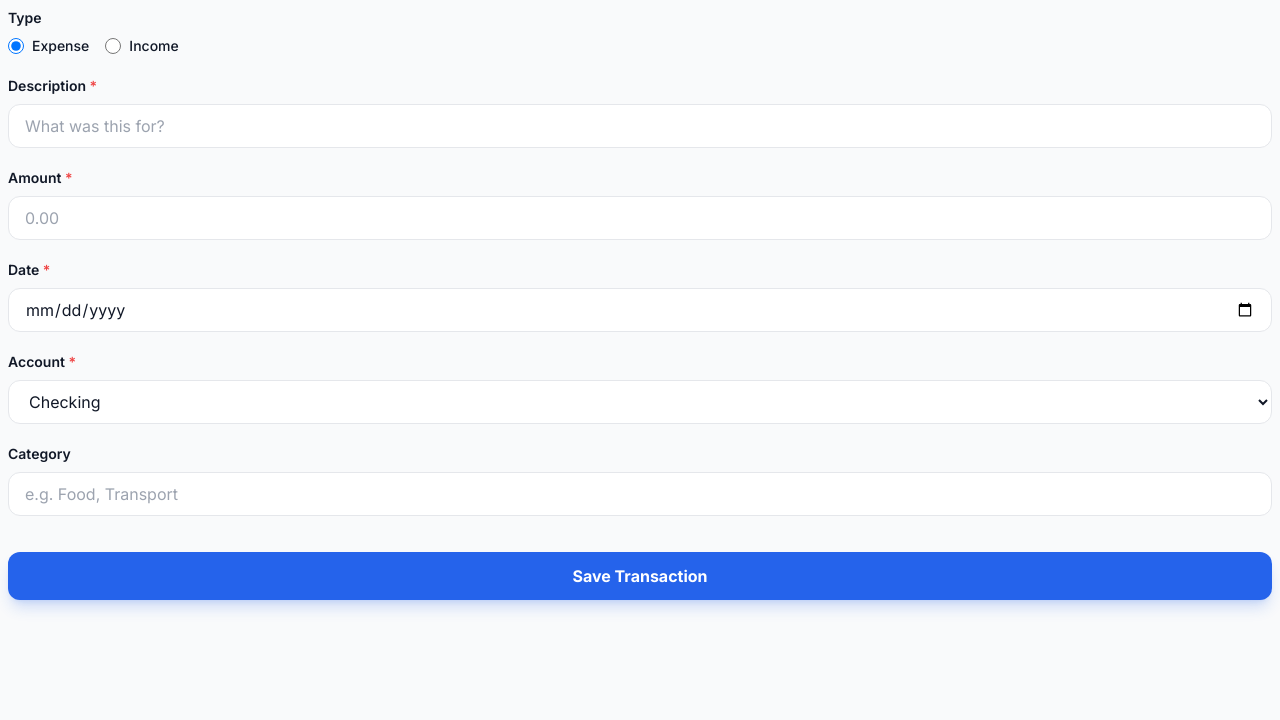
Test: TransactionForm › validates required fields
Using a more flexible button matcher since my component has "Save Transaction"
Click the button "Save Transaction": (640, 576) x1=8 y1=552 x2=1272 y2=600
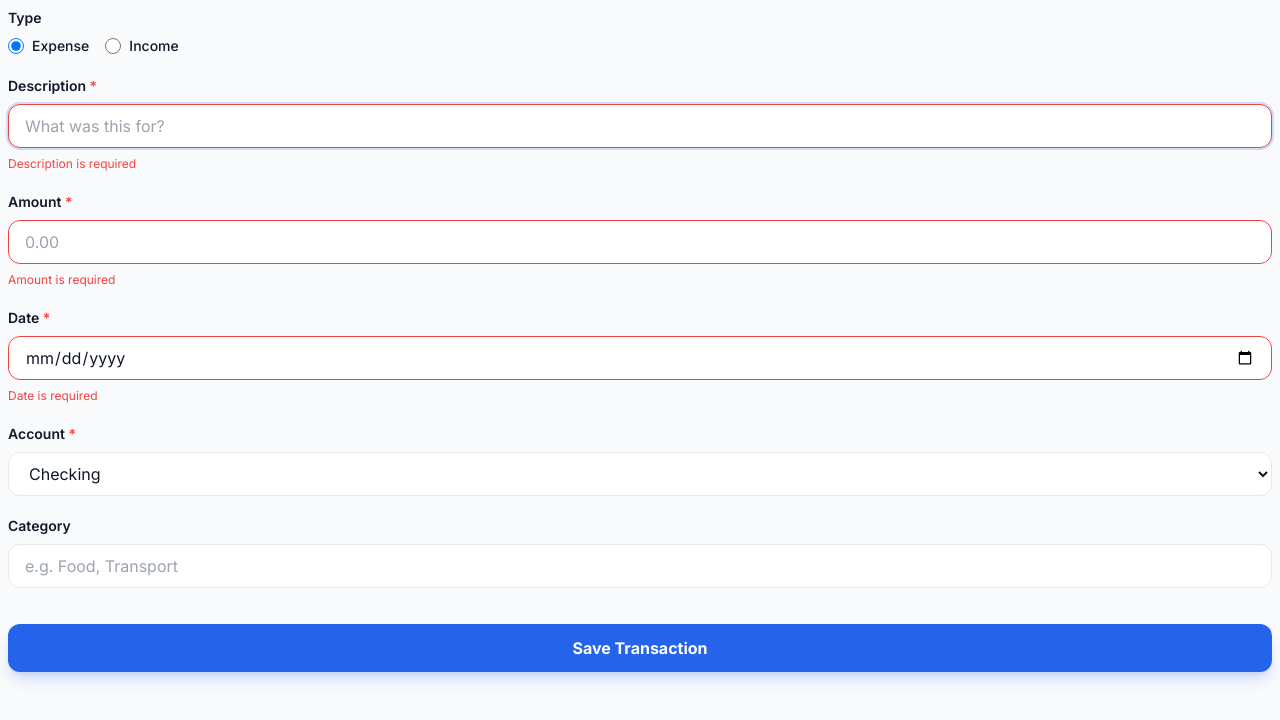
Expected: the text "Description is required" is shown, x1=8 y1=156 x2=136 y2=171
Expected: the text "Amount is required" is shown, x1=8 y1=272 x2=115 y2=287
